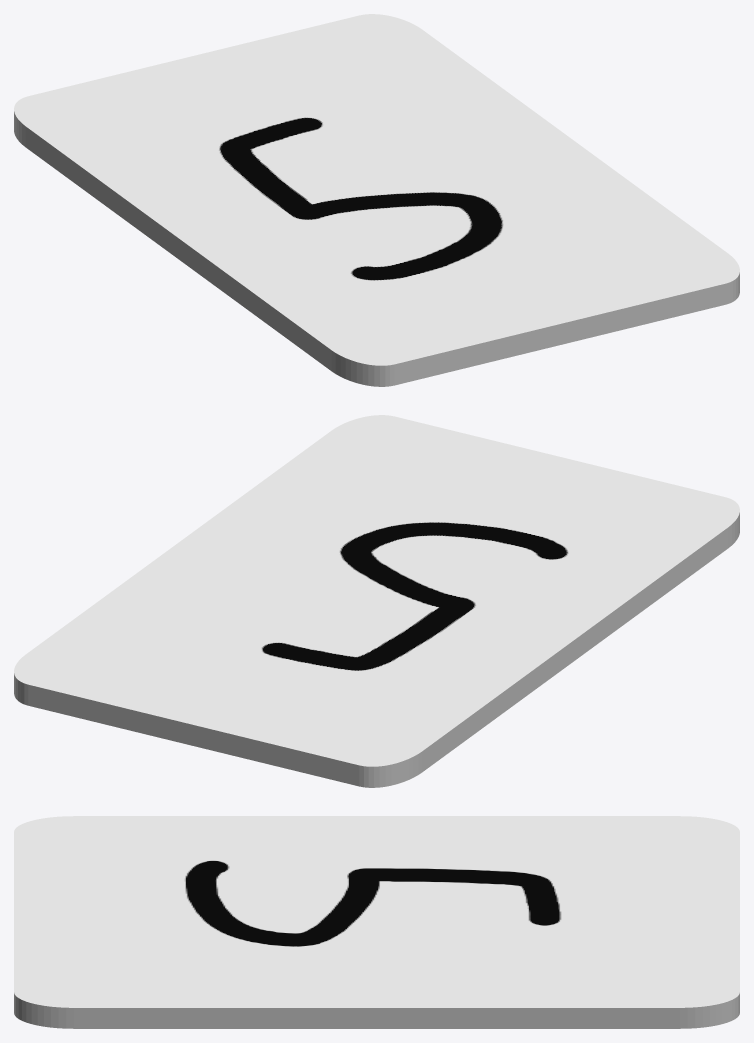
Rendered from card.obj.
3 renders of one model, top to bottom at view 1: azimuth 30°, elevation 25°; view 2: azimuth 150°, elevation 25°; view 3: azimuth 270°, elevation 25°, orthographic.
Visible parts, largest first — view 1: Plane; view 2: Plane; view 3: Plane.
Part boxes in pixels (left/top/right/bottom): Plane: left=14, top=14, right=739, bottom=386; Plane: left=14, top=415, right=739, bottom=787; Plane: left=14, top=816, right=739, bottom=1028.
Size of the model in its own units: 2 by 0.1018 by 3.2.
